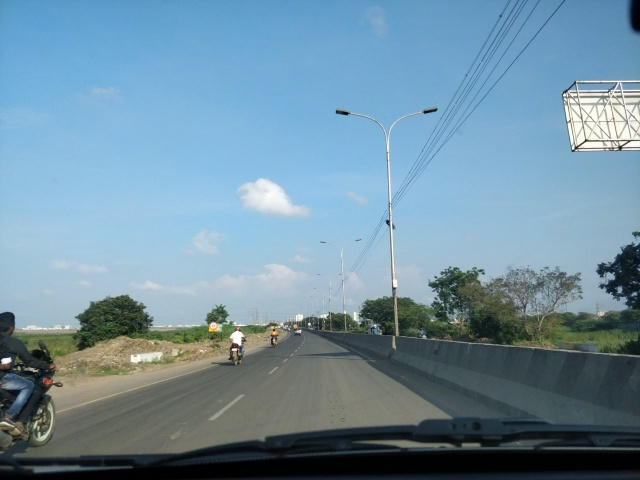car: (293, 324, 303, 334)
motorbike: (1, 321, 55, 457), (228, 330, 248, 369), (268, 330, 278, 348), (417, 327, 429, 339), (371, 324, 384, 335)
